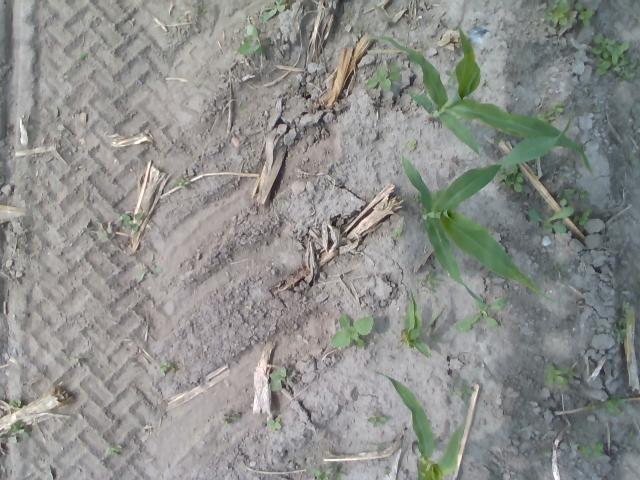Maize: (371, 20, 593, 177), (402, 108, 572, 310), (375, 367, 465, 480), (402, 289, 446, 359)
Weeds: (591, 33, 640, 83), (456, 296, 507, 332), (330, 314, 374, 348), (526, 206, 574, 234), (366, 60, 402, 92), (237, 22, 270, 56), (542, 361, 578, 391), (611, 300, 636, 342), (496, 164, 524, 194), (530, 101, 564, 124), (541, 0, 569, 25), (414, 271, 441, 294), (446, 378, 474, 400), (261, 0, 287, 22), (309, 464, 344, 480), (6, 420, 30, 442), (572, 3, 594, 27), (602, 394, 627, 414), (268, 366, 288, 391), (577, 440, 603, 459), (119, 212, 142, 231), (540, 263, 564, 280), (573, 206, 592, 226), (366, 411, 388, 428), (137, 268, 162, 282), (95, 220, 109, 242), (266, 416, 284, 433), (558, 187, 574, 206), (170, 176, 191, 189), (157, 360, 175, 374), (444, 67, 458, 83), (106, 444, 122, 456), (407, 138, 418, 151), (492, 133, 504, 144), (8, 398, 21, 408), (391, 228, 403, 238), (197, 3, 210, 12), (578, 190, 591, 198), (410, 192, 420, 202), (627, 152, 637, 162), (633, 282, 640, 295), (430, 334, 440, 343), (78, 52, 88, 61), (586, 402, 597, 410), (356, 25, 364, 33), (420, 43, 428, 49), (233, 416, 241, 420)
